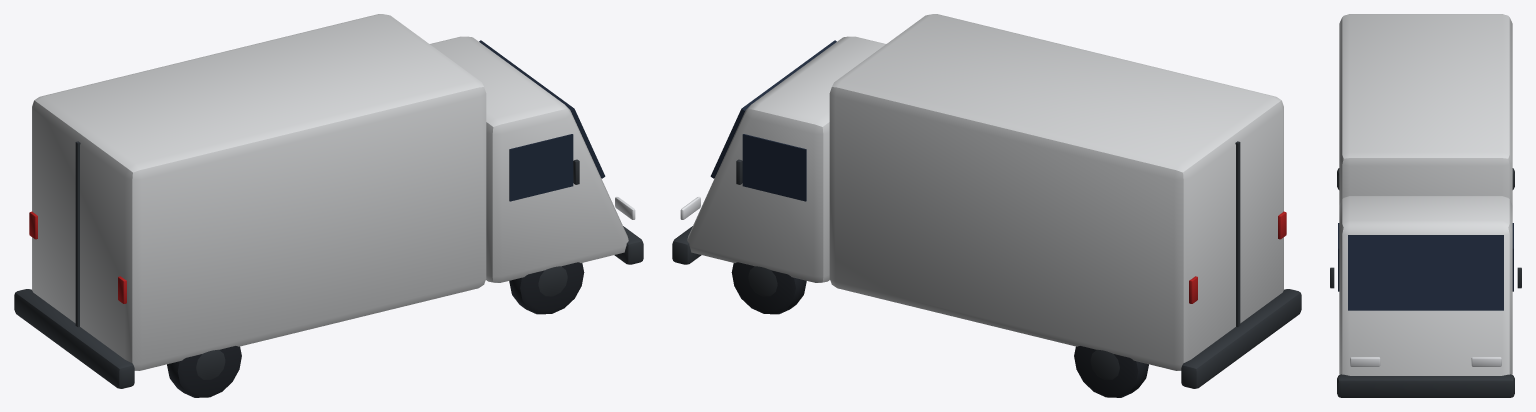
File: courier.glb
3 views of the same model, side by side, from view 1: azimuth 30°, elevation 25°; view 2: azimuth 150°, elevation 25°; view 3: azimuth 270°, elevation 25° (orthographic). The views are drawn at different scales.
Visible parts, largest first — view 1: body; view 2: body; view 3: body.
Boxes of the visible parts, box(x1,y1,x2,y2) form: body: box(14, 14, 643, 397); body: box(672, 14, 1301, 397); body: box(1330, 14, 1521, 397).
Size of the model in its own units: 5.85 by 2.65 by 2.21.
